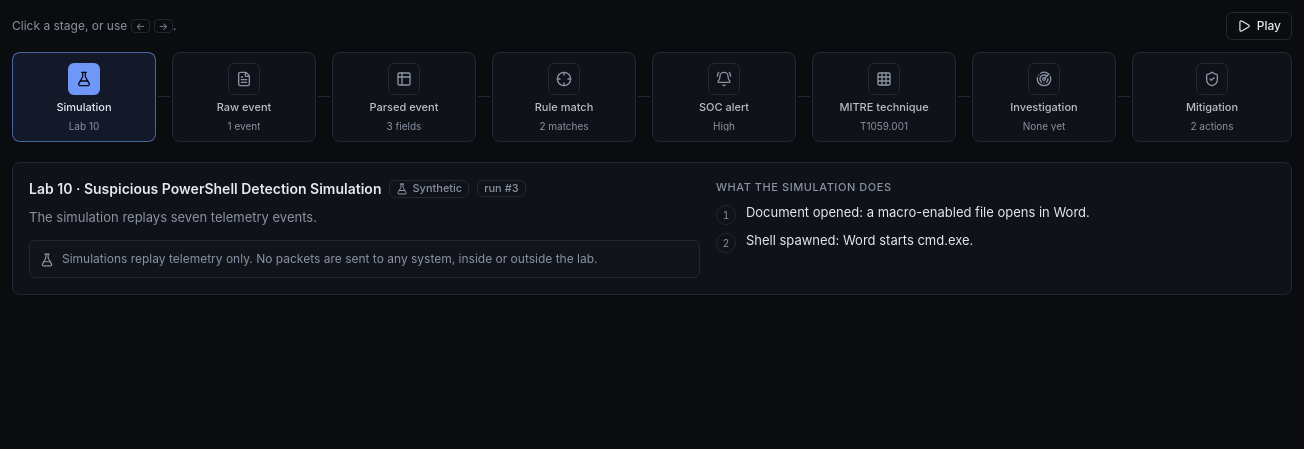
it: LifecycleFlow › shows the rule, why it matched and the trace table
Click the tab "Rule match 2 matches": (564, 97) [492,52,636,142]
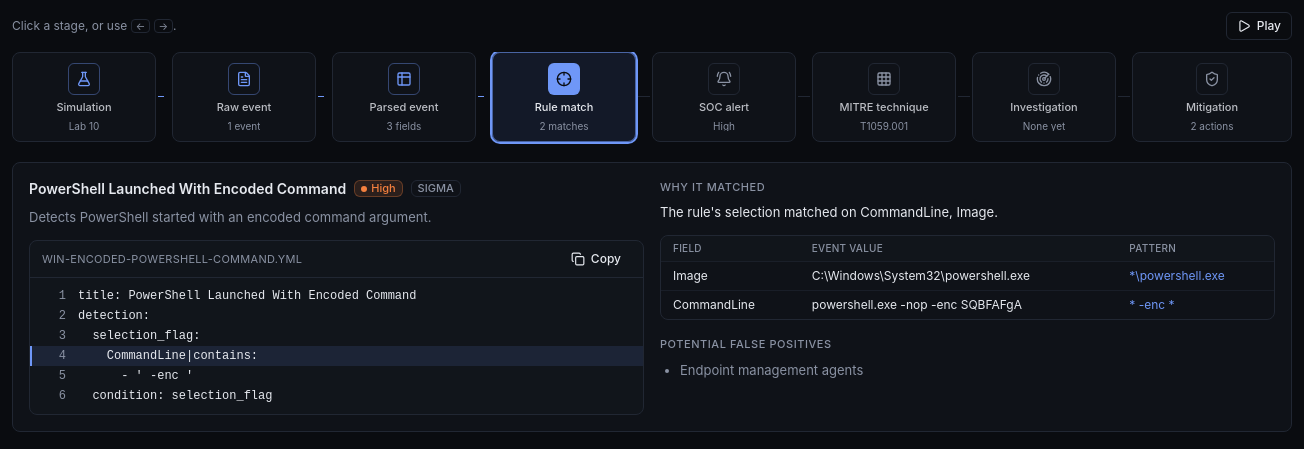
Now the text with test id "match-explanation" shows "matched on CommandLine, Image", box [660,204,998,220]
Now the text "*\\powershell.exe" is shown, box [1117,262,1274,291]
Now the list item "Endpoint management agents" is shown, box [680,362,863,378]
